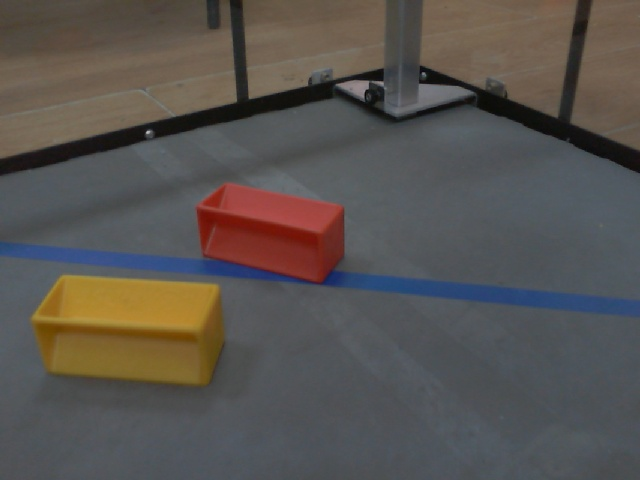RedSample: (194, 179, 350, 285)
YellowSample: (29, 270, 229, 387)
